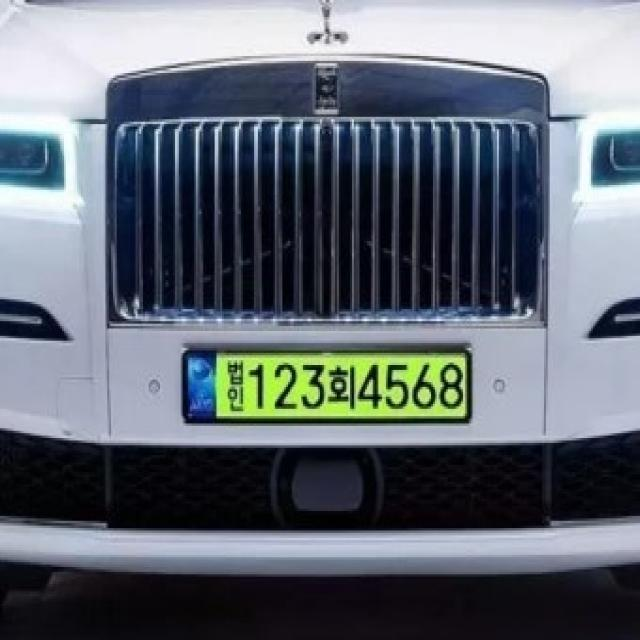car: (152, 330, 499, 469)
